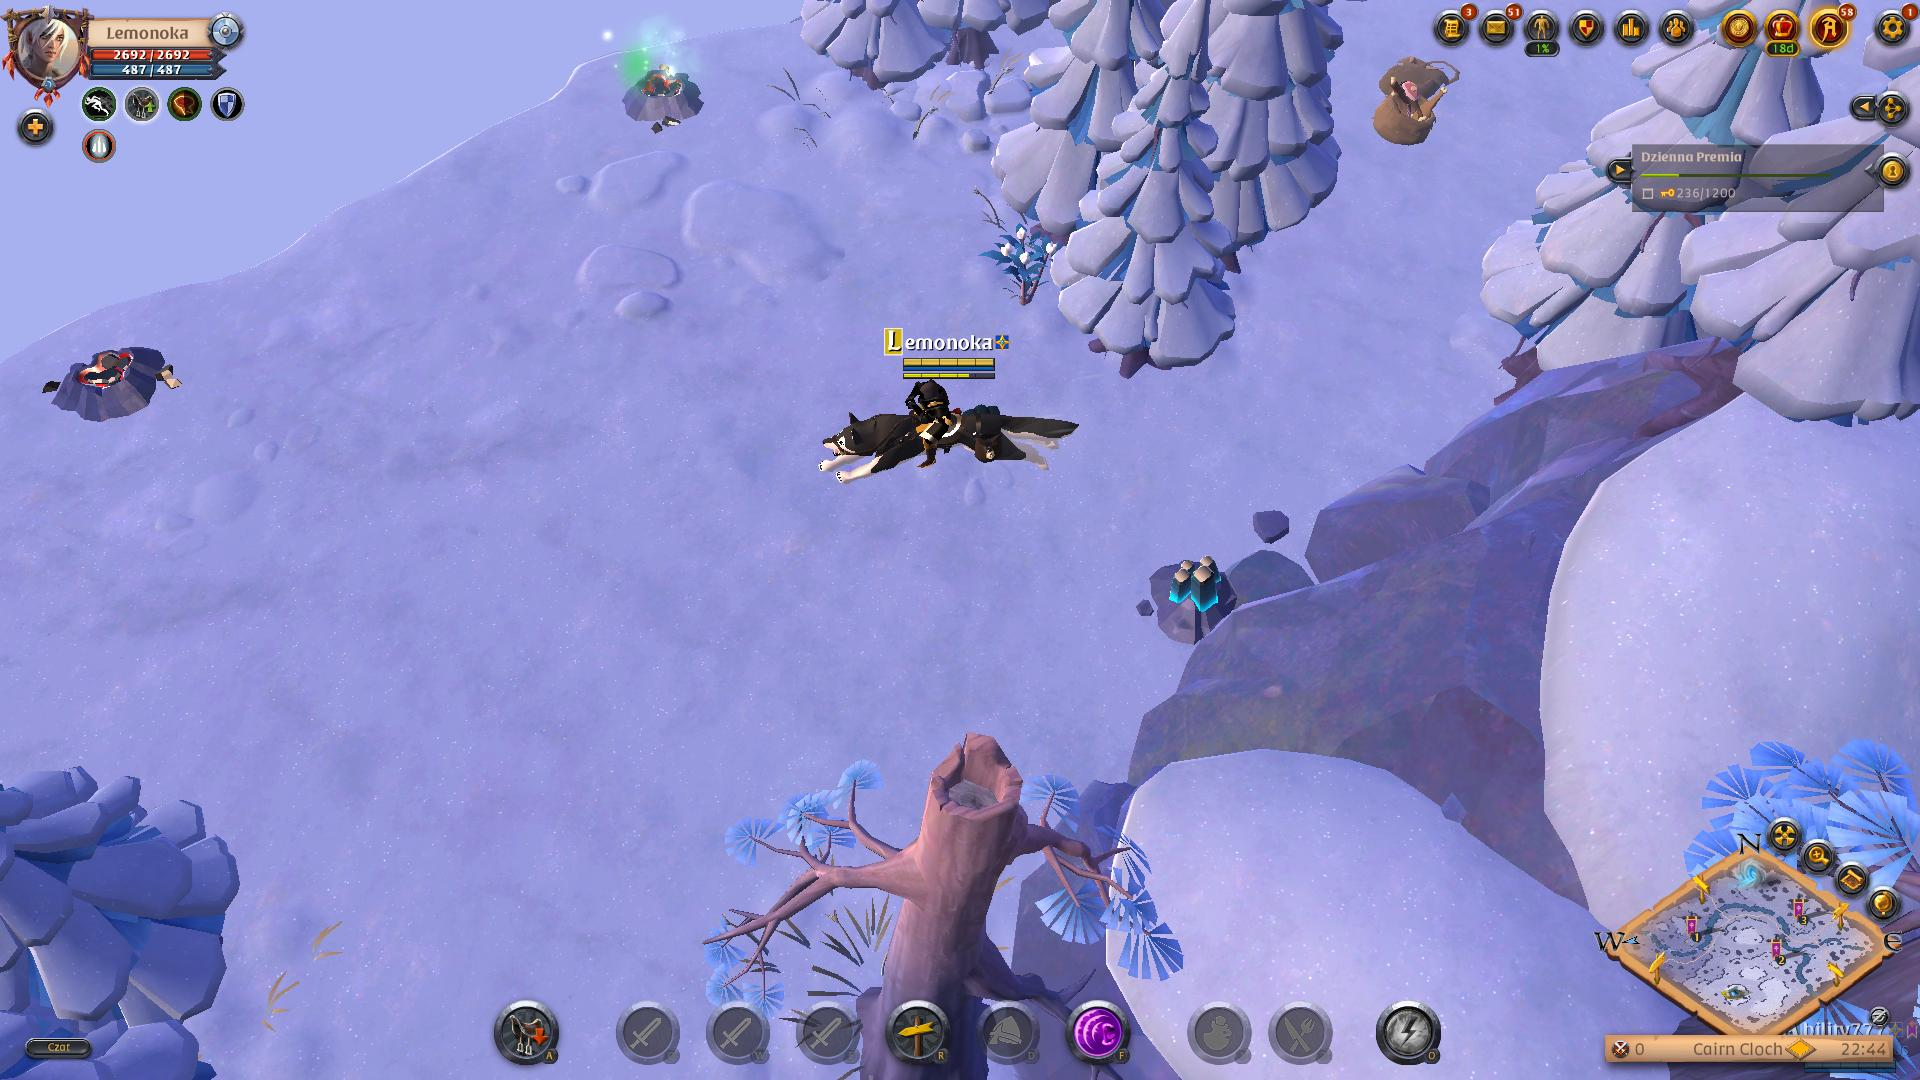fiber tier 4: (988, 223, 1058, 299)
ore tier 4: (1143, 550, 1249, 649)
